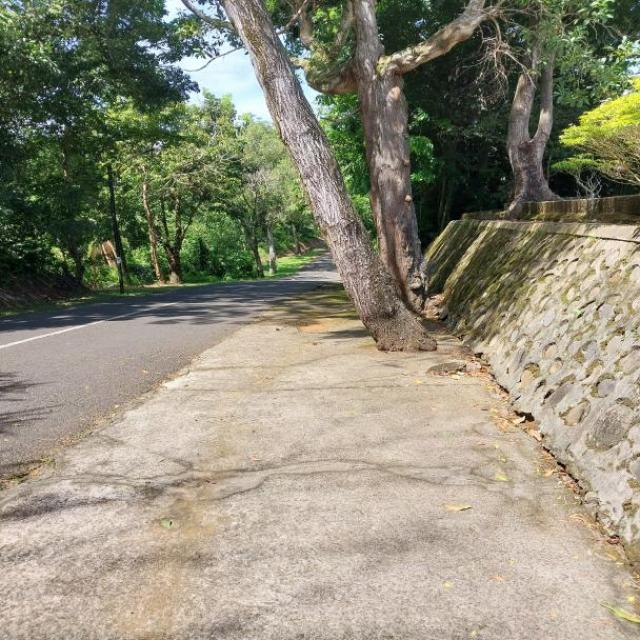tree ahead at: (221, 0, 447, 352)
